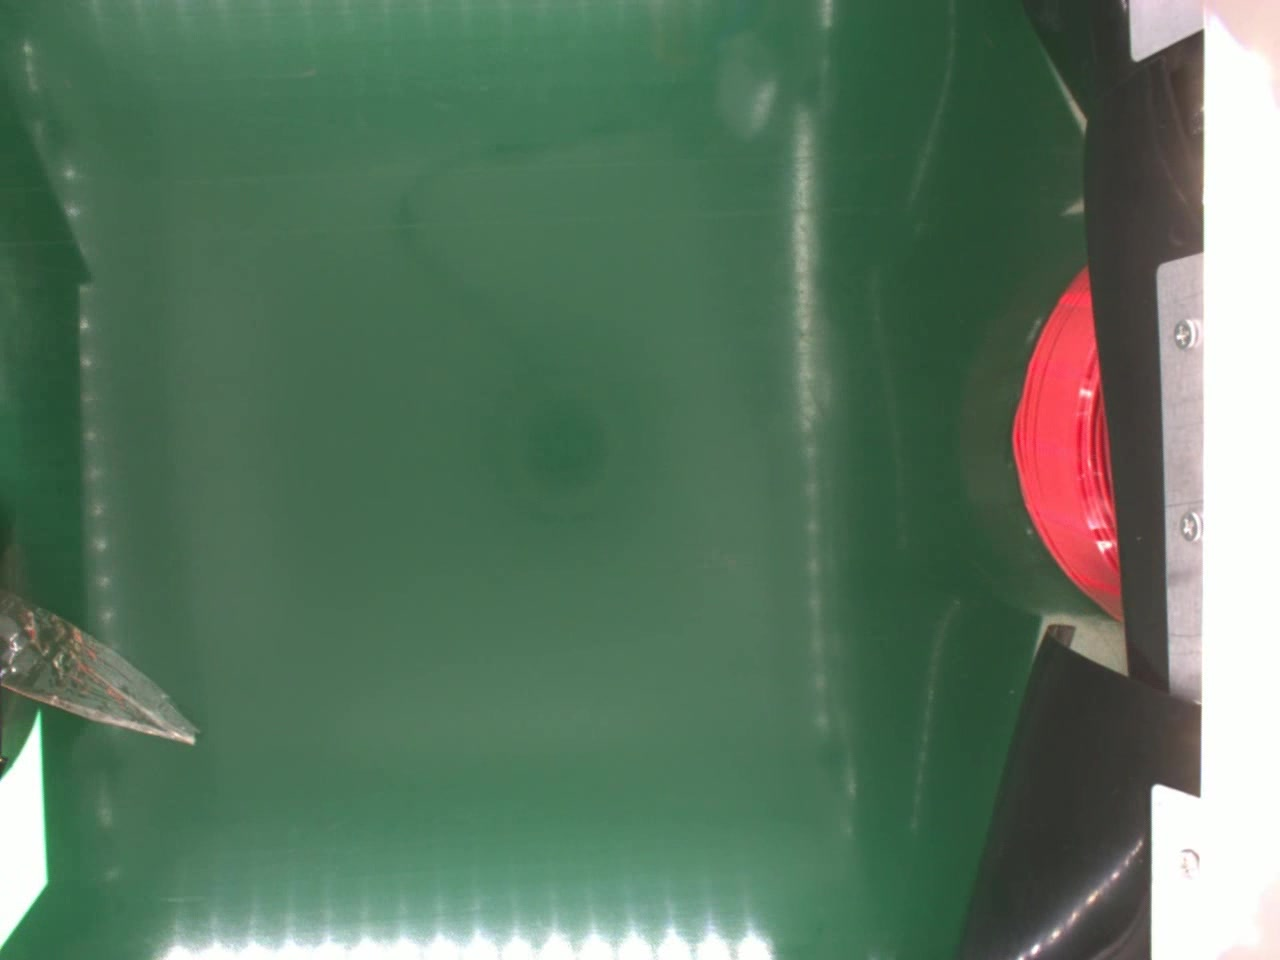red: (1010, 262, 1123, 619)
